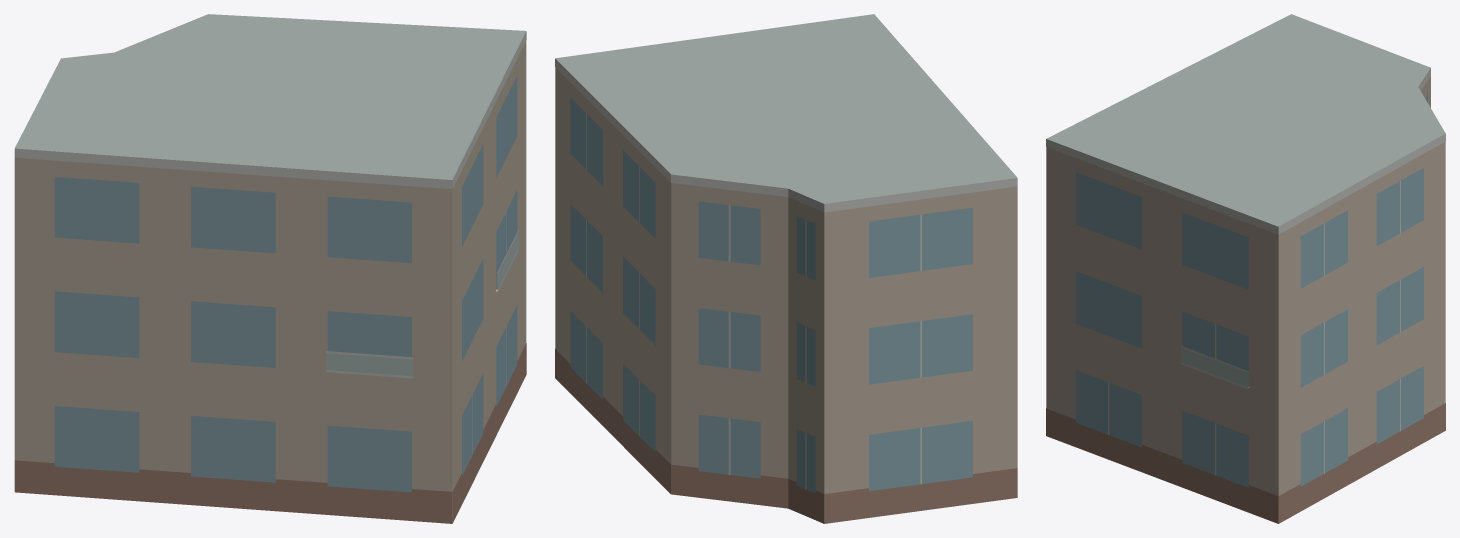
File: survey-upis-32810510.glb
3 renders of one model, left to right at view 1: azimuth 30°, elevation 25°; view 2: azimuth 150°, elevation 25°; view 3: azimuth 270°, elevation 25°, orthographic. The views are drawn at different scales.
Visible parts, largest first — view 1: survey-upis-32810510.tmp; view 2: survey-upis-32810510.tmp; view 3: survey-upis-32810510.tmp.
Boxes of the visible parts, box(x1,y1,x2,y2) form: survey-upis-32810510.tmp: box(14, 14, 526, 523); survey-upis-32810510.tmp: box(555, 14, 1017, 523); survey-upis-32810510.tmp: box(1046, 14, 1445, 523).
Size of the model in its own units: 14.06 by 9.15 by 11.16.
